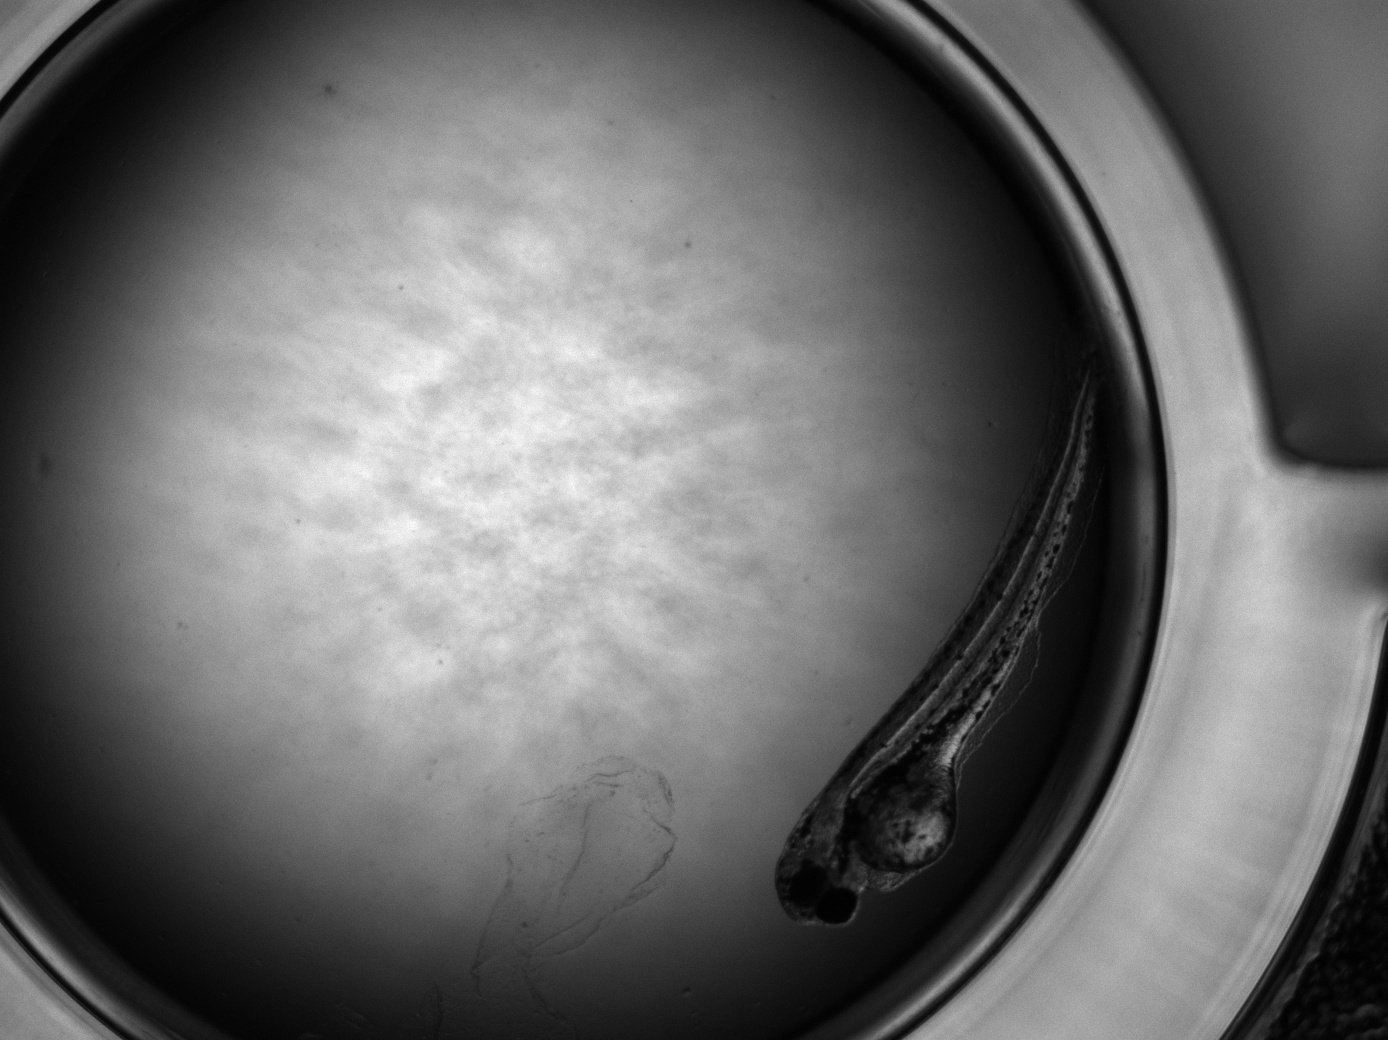debris: (473, 755, 677, 965)
embryo: (775, 341, 1102, 930)
eye: (788, 865, 826, 908), (816, 887, 858, 924)
yolksac: (850, 758, 958, 871)
